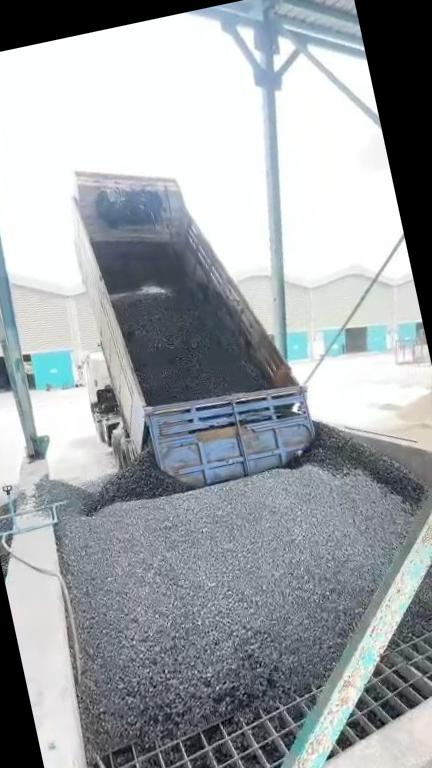gravel: (32, 422, 425, 767), (115, 289, 269, 404), (409, 516, 432, 633)
sand: (368, 387, 432, 450)
